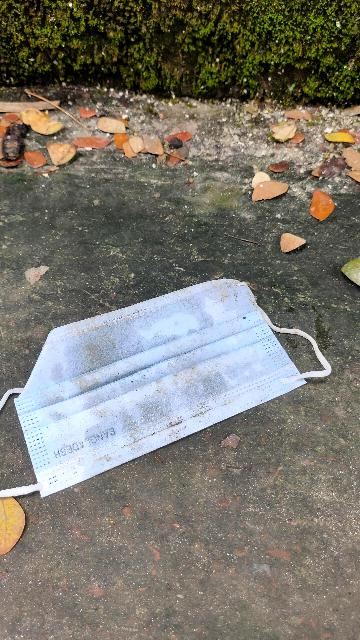mask: (7, 274, 345, 501)
